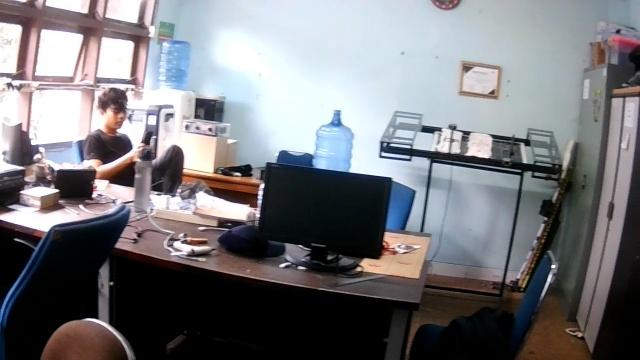AIO PC-Monitor-TV: (256, 160, 391, 271)
Kursi: (408, 249, 560, 359)
Meja: (108, 212, 432, 308)
